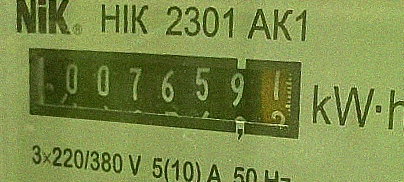0: (91, 59, 114, 101), (60, 58, 83, 98)
1: (264, 65, 287, 104)
5: (189, 63, 215, 104)
6: (155, 64, 180, 106)
7: (122, 62, 147, 102)
9: (225, 68, 249, 109)
screen: (13, 31, 312, 149)
